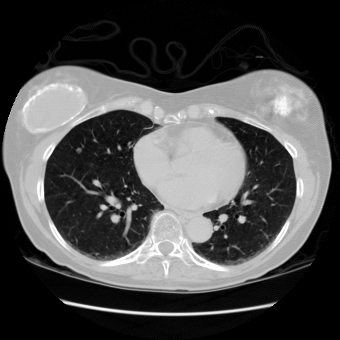nodule: (76, 147, 82, 153)
